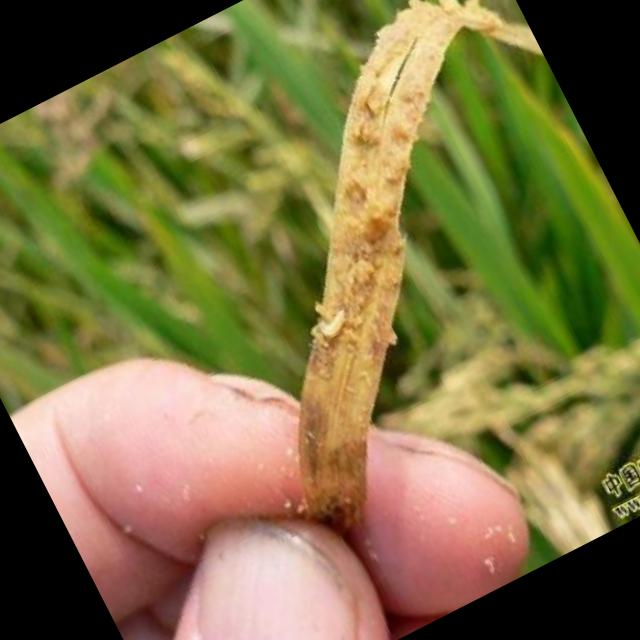whorl-maggot: (309, 299, 370, 356)
